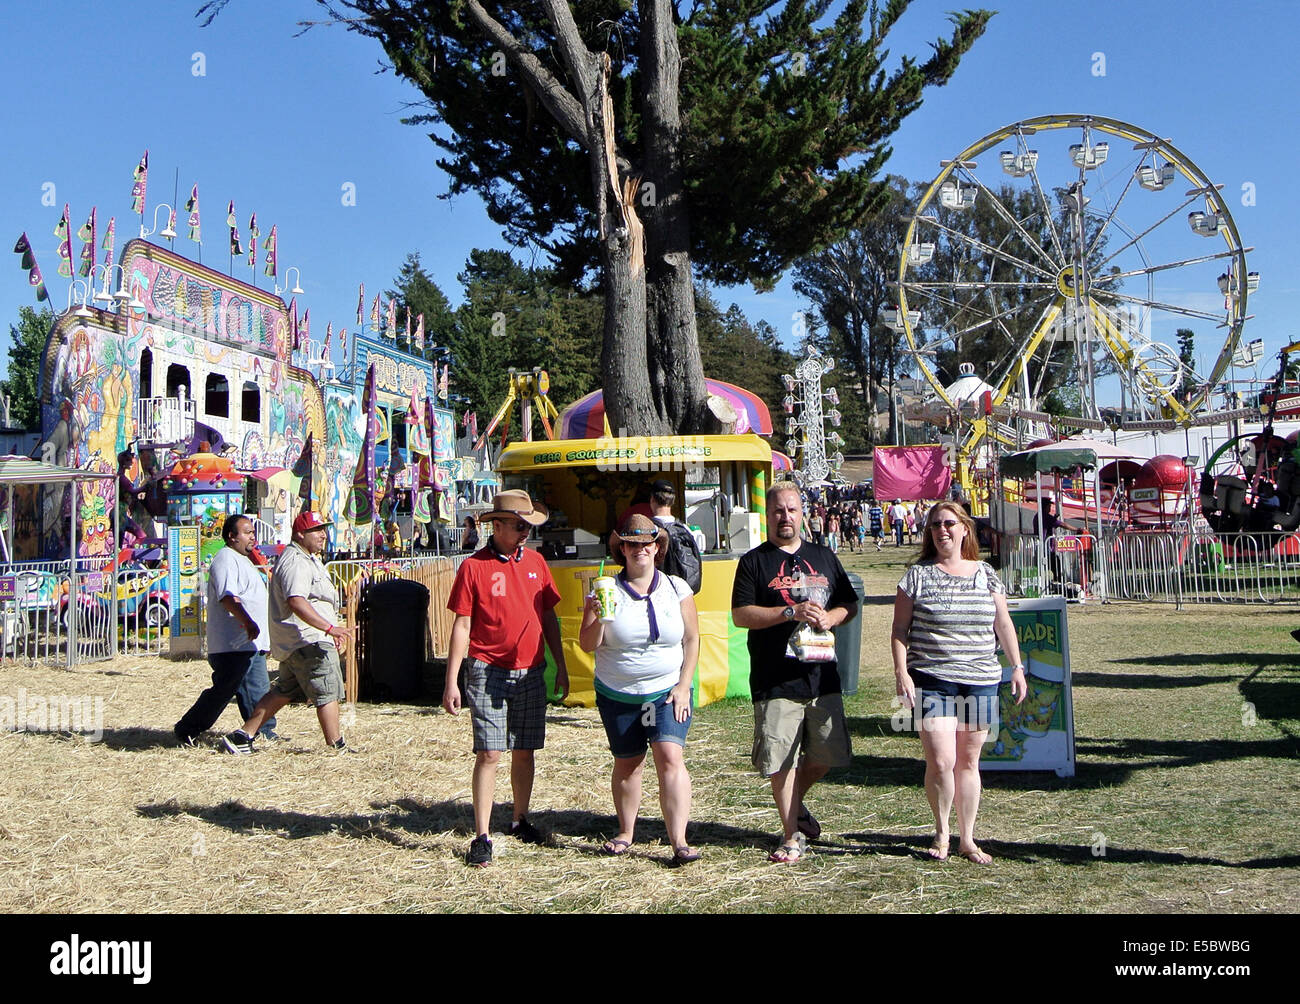person: (733, 485, 861, 870), (887, 497, 1006, 863), (585, 515, 706, 868), (443, 488, 553, 869), (228, 515, 356, 762), (177, 514, 282, 747), (888, 499, 908, 549), (866, 502, 887, 549), (826, 515, 846, 553), (912, 500, 929, 543), (808, 512, 826, 544)
